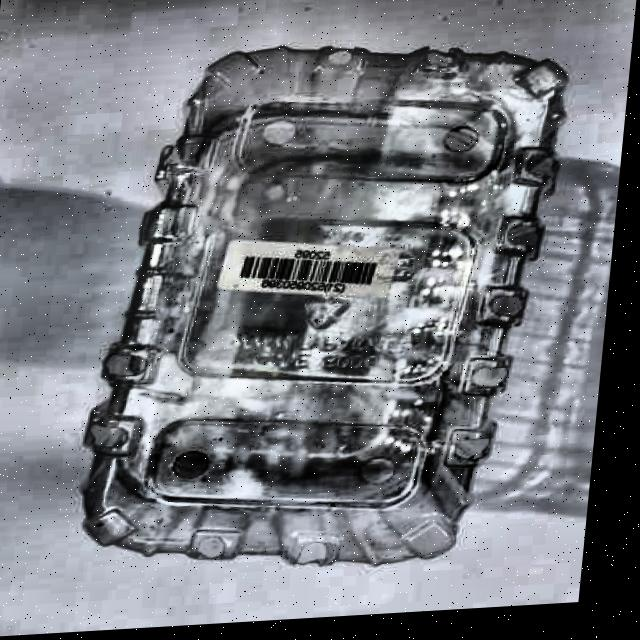plastic: (58, 29, 579, 589)
